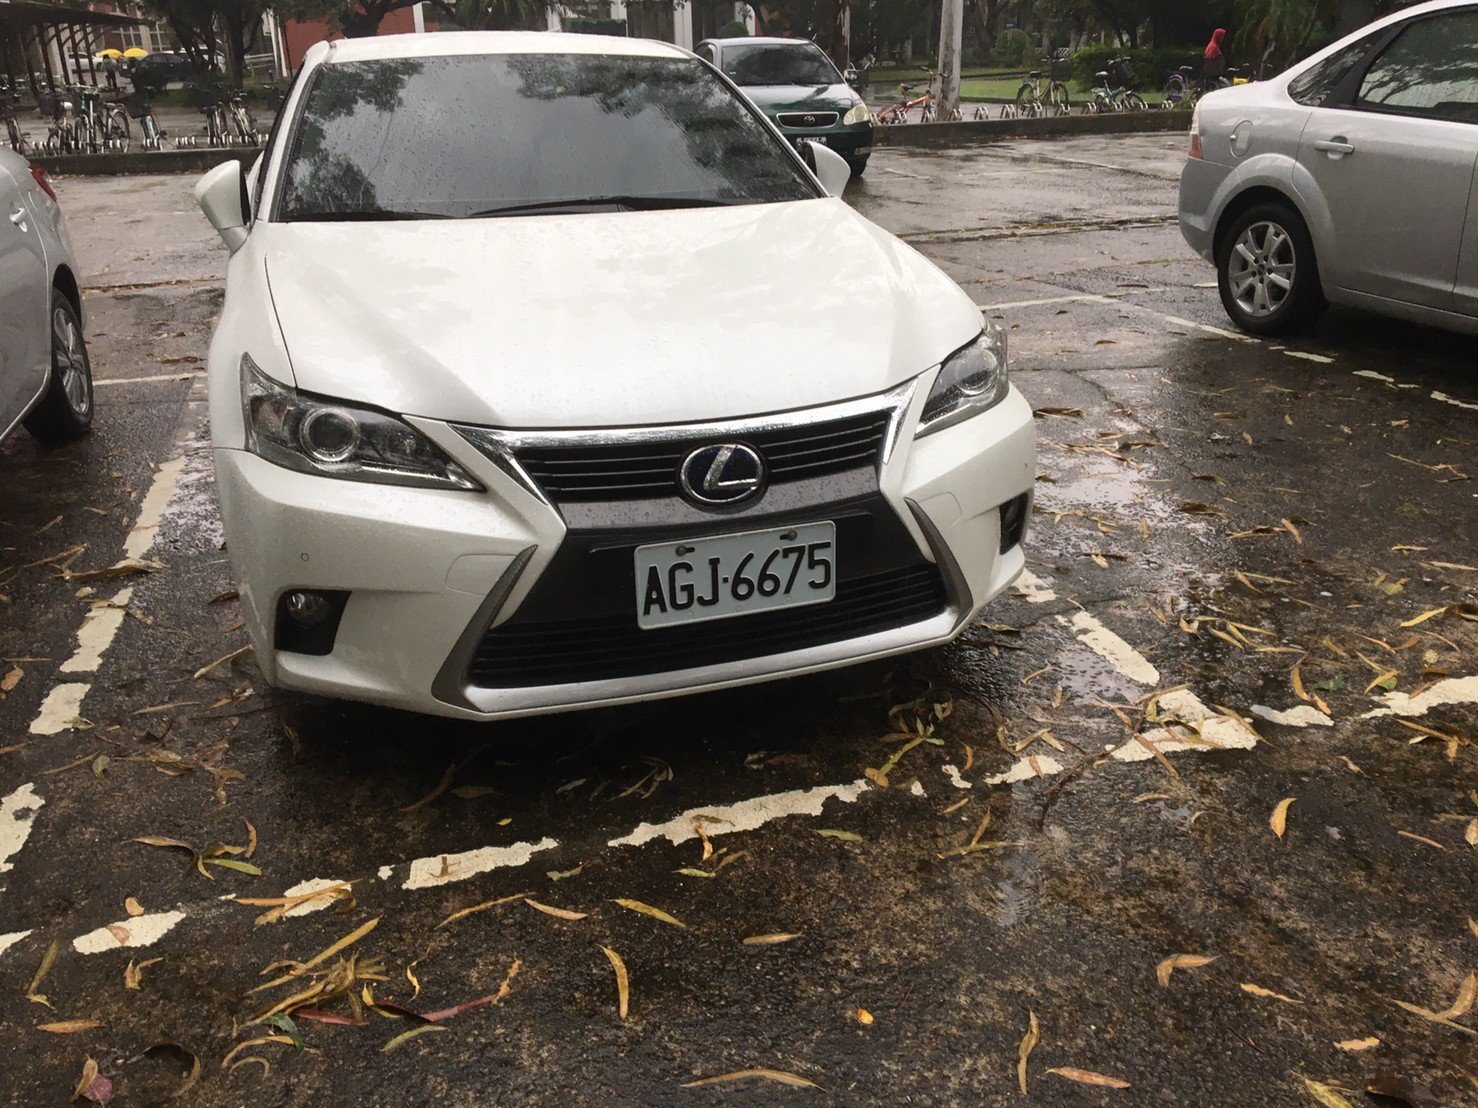LP: (627, 518, 843, 635)
